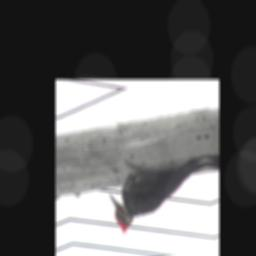Woodpecker: (104, 149, 213, 237)
